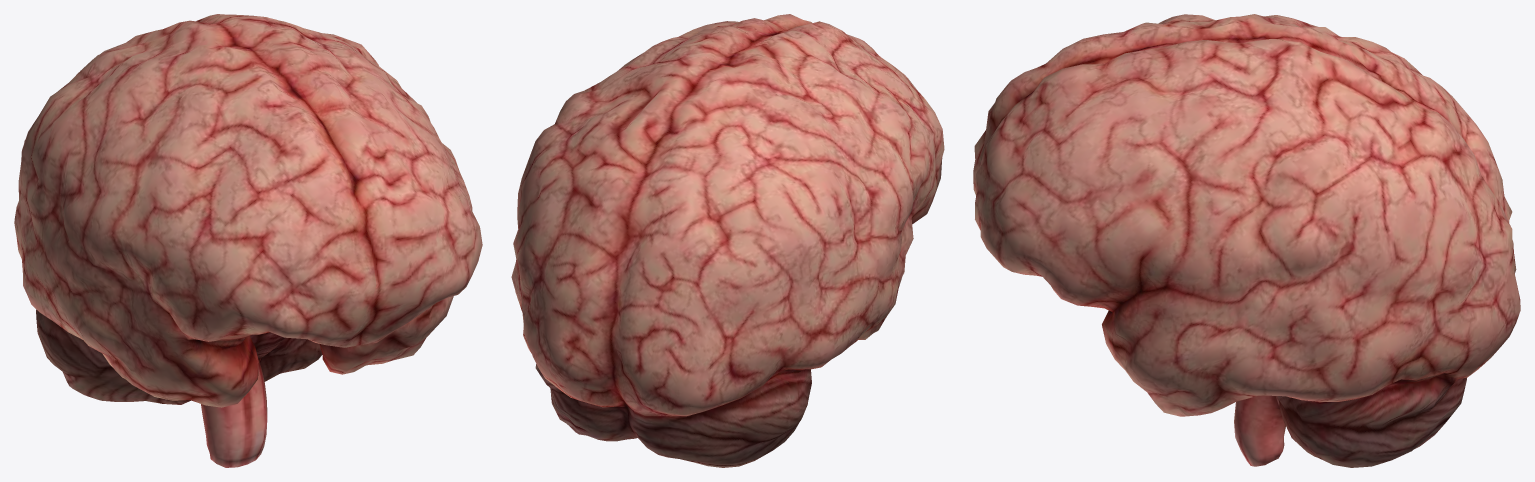
File: brain.glb
3 views of the same model, side by side, from view 1: azimuth 30°, elevation 25°; view 2: azimuth 150°, elevation 25°; view 3: azimuth 270°, elevation 25° (orthographic). The views are drawn at different scales.
Visible parts, largest first — view 1: Object_5; view 2: Object_5; view 3: Object_5.
Part boxes in pixels (bbox=[...]): Object_5: bbox=[14, 14, 482, 467]; Object_5: bbox=[511, 14, 944, 467]; Object_5: bbox=[973, 14, 1520, 467].
Size of the model in its own units: 0.7609 by 0.8547 by 0.991.
1 material, 1 textured.
